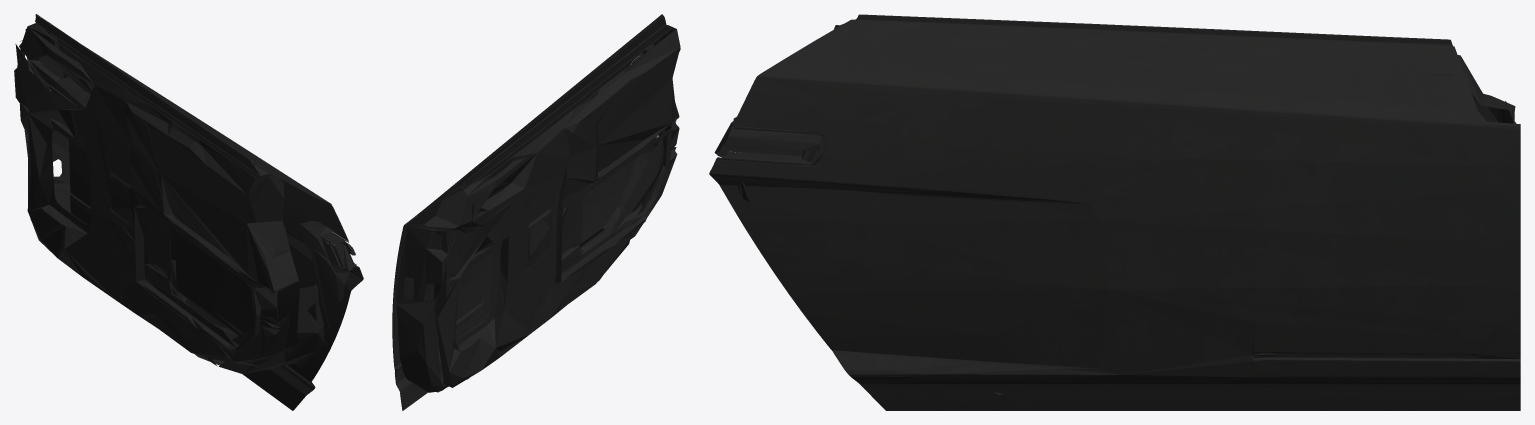
File: bodyPart_door_front_c01.glb
3 renders of one model, left to right at view 1: azimuth 30°, elevation 25°; view 2: azimuth 150°, elevation 25°; view 3: azimuth 270°, elevation 25°, orthographic. The views are drawn at different scales.
Visible parts, largest first — view 1: geometry_0; view 2: geometry_0; view 3: geometry_0.
Boxes of the visible parts, x1=… form: geometry_0: x1=14, y1=14, x2=363, y2=410; geometry_0: x1=392, y1=14, x2=680, y2=410; geometry_0: x1=709, y1=14, x2=1520, y2=410.
Bounding box in the file's own units: 0.0629 × 0.2071 × 0.42.
1 material, 1 textured.
